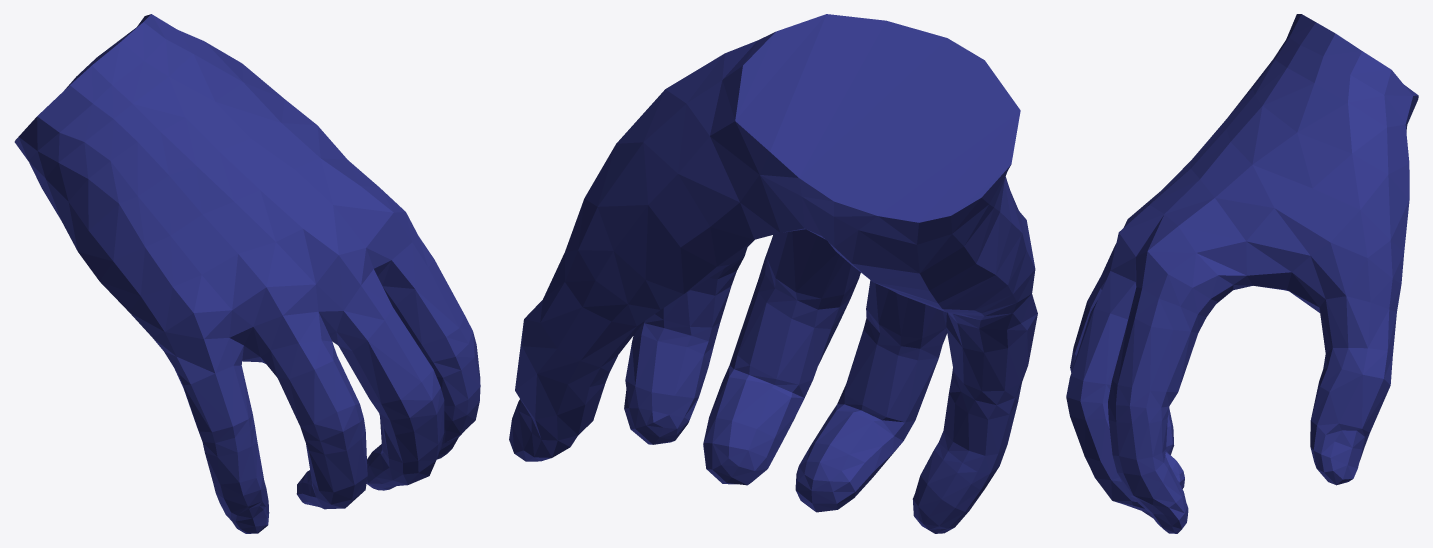
The picture shows the model from 3 angles, left to right: view 1: azimuth 30°, elevation 25°; view 2: azimuth 150°, elevation 25°; view 3: azimuth 270°, elevation 25°; orthographic projection. The views are drawn at different scales.
Size of the model in its own units: 0.1238 by 0.145 by 0.1094.
